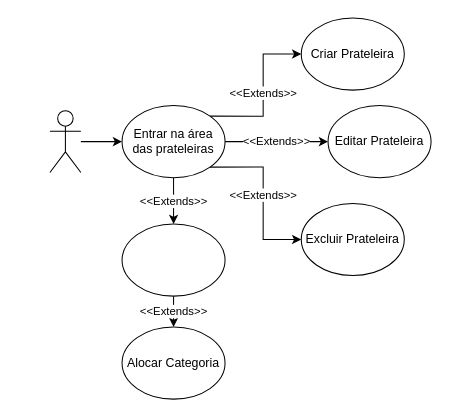
Some shapes in this 449 by 417 pixel diagram are drawn without their labels. The shapes that lost their labels are listed below. From the top down, each one's box as (x1, y1, x2, y2) in pixels, then its label:
(49, 110, 81, 173): Usuario_Estoque
(121, 223, 225, 296): Selecionar Prateleira
